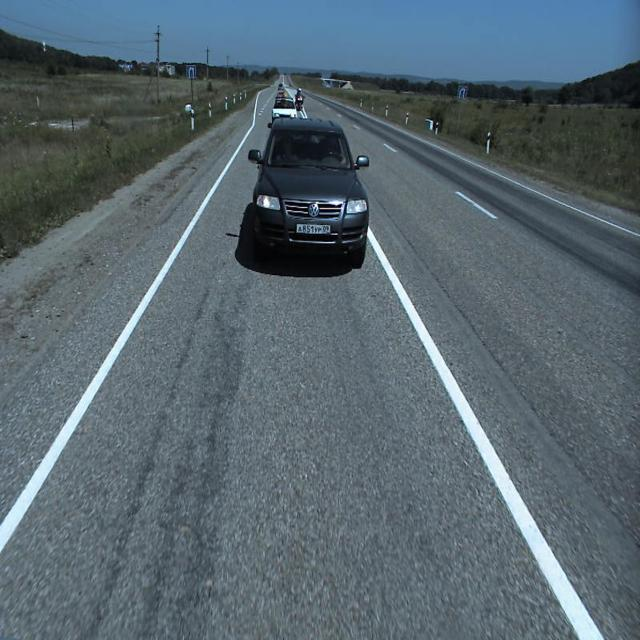road: (0, 86, 640, 639), (282, 76, 296, 98)
